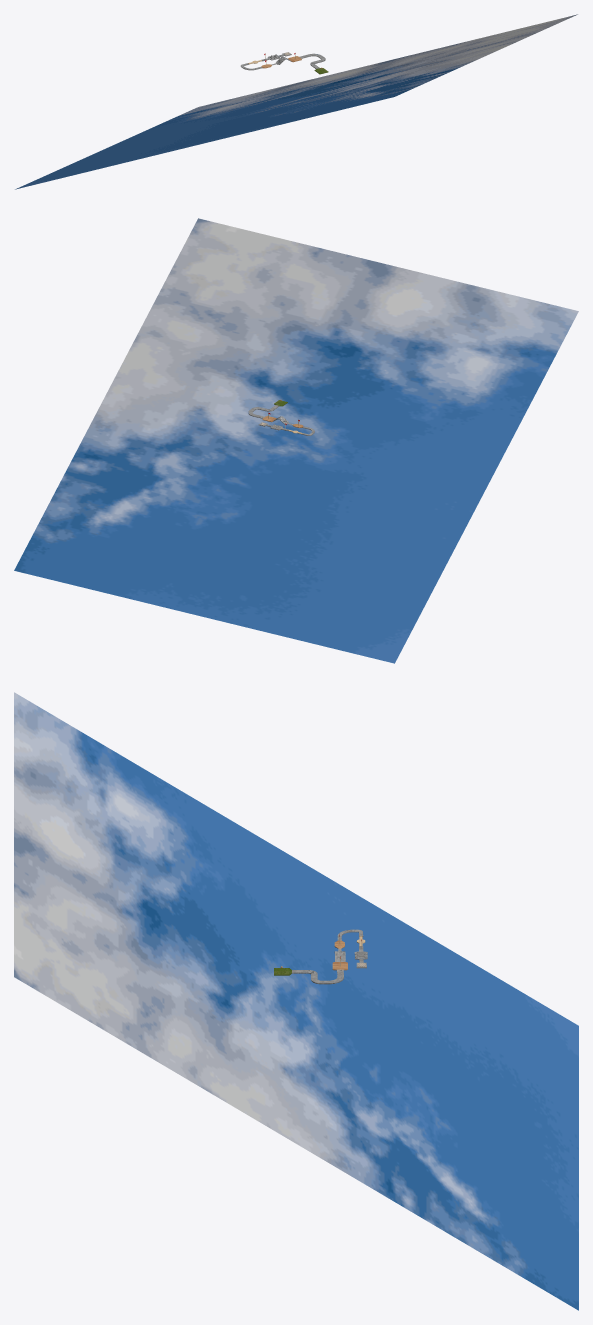
File: sky_road-TzKyDDEx.glb
3 renders of one model, top to bottom at view 1: azimuth 30°, elevation 25°; view 2: azimuth 150°, elevation 25°; view 3: azimuth 270°, elevation 25°, orthographic. The views are drawn at different scales.
Parts seen in each view (by area): view 1: Plane, course.solid.{}; view 2: Plane, course.solid.{}; view 3: Plane, course.solid.{}.
Boxes of the visible parts, x1,y1,x2,y2 form: Plane: (15,14,577,189); course.solid.{}: (240,52,328,74); Plane: (14,218,578,663); course.solid.{}: (248,400,314,435); Plane: (14,692,578,1310); course.solid.{}: (274,929,367,984).
Bounding box in the file's own units: 618 × 338 × 518.
1 material, 1 textured.
